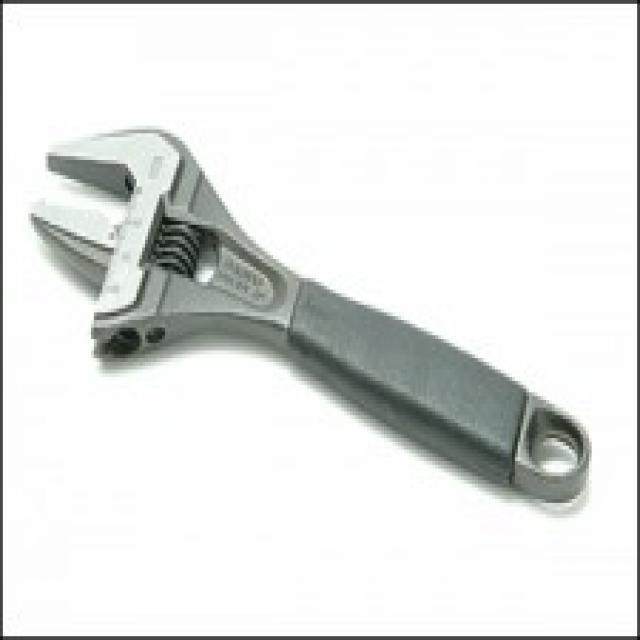wrench: (22, 118, 594, 514)
